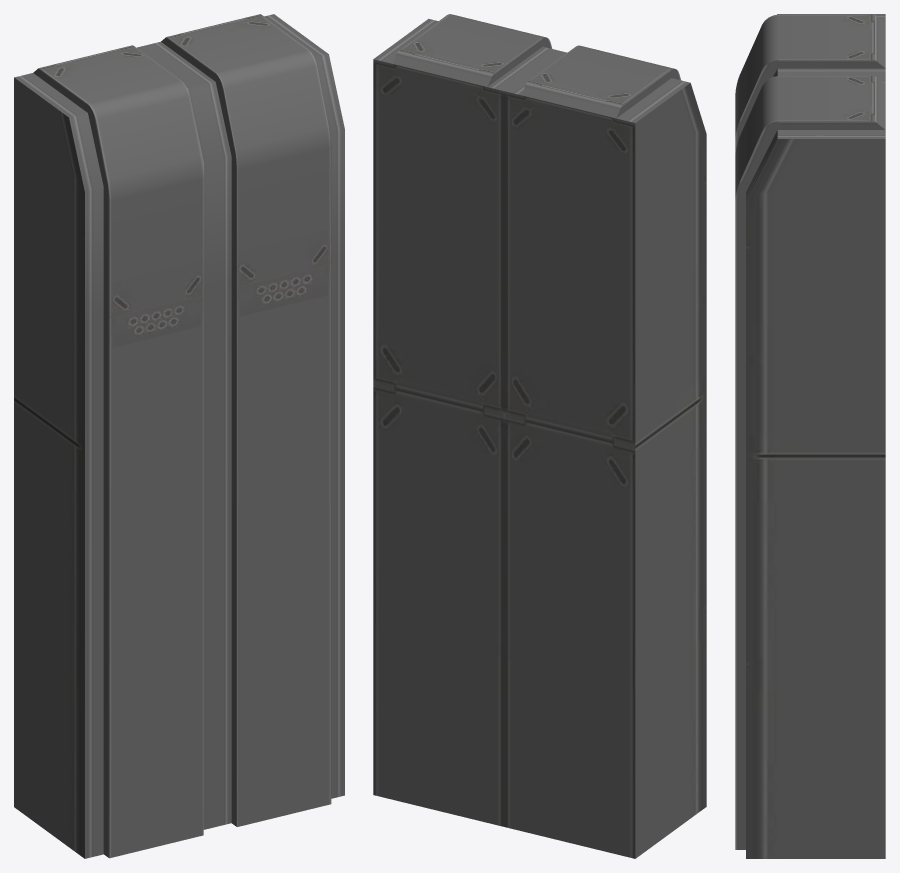
File: locker.glb
3 renders of one model, left to right at view 1: azimuth 30°, elevation 25°; view 2: azimuth 150°, elevation 25°; view 3: azimuth 270°, elevation 25°, orthographic. The views are drawn at different scales.
Visible parts, largest first — view 1: Prop_Locker; view 2: Prop_Locker; view 3: Prop_Locker.
Boxes of the visible parts, left/top/right/bottom form: Prop_Locker: left=14, top=14, right=344, bottom=858; Prop_Locker: left=373, top=14, right=706, bottom=858; Prop_Locker: left=735, top=14, right=885, bottom=858.
Bounding box in the file's own units: 0.983 × 2.67 × 0.4994.
1 material, 1 textured.
